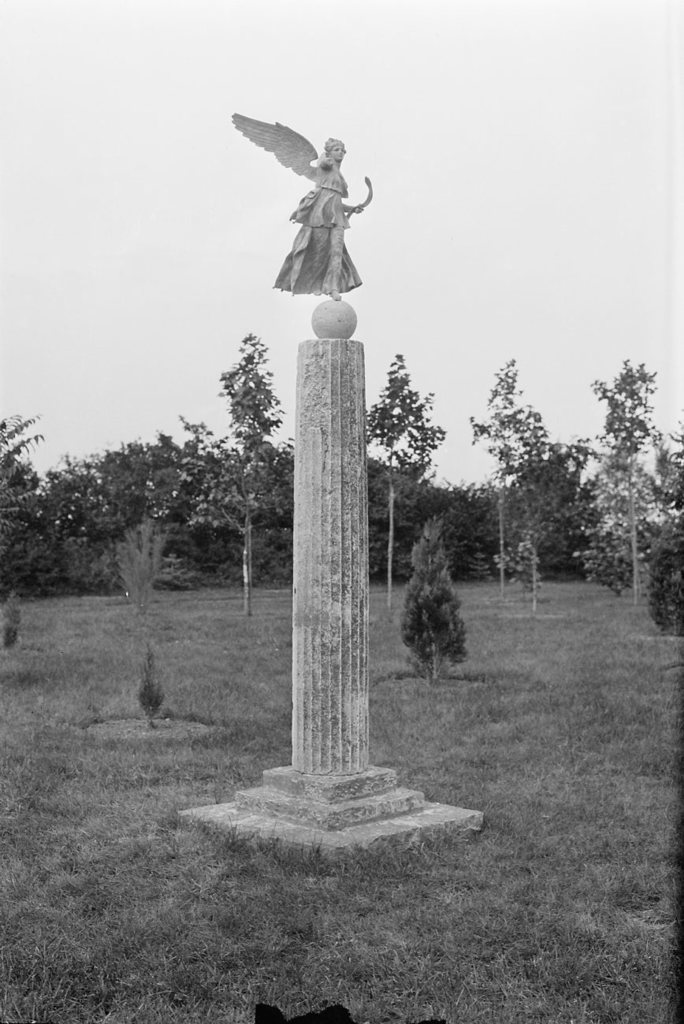Person: (272, 137, 372, 300)
